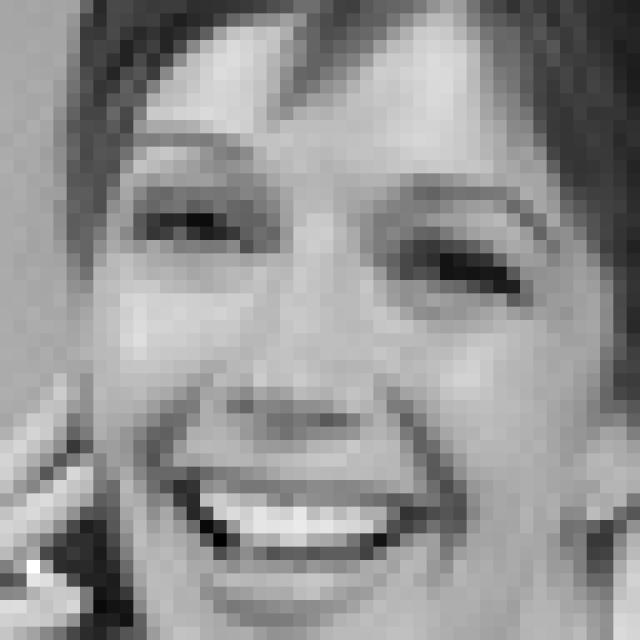happy: (116, 122, 563, 626)
